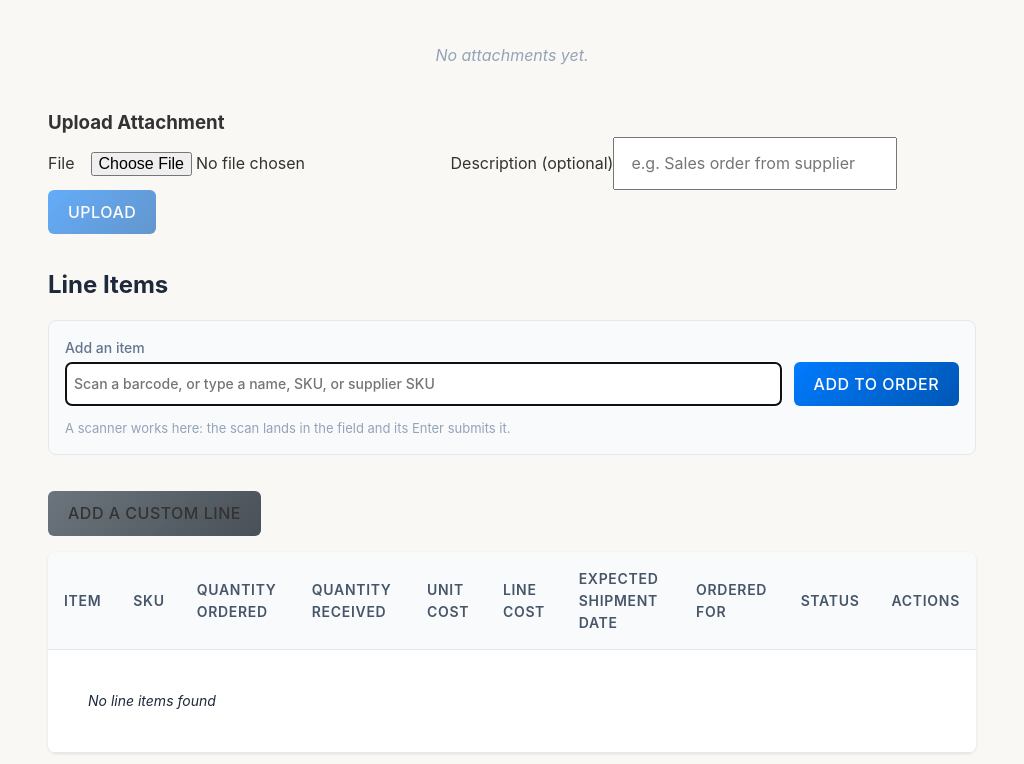
Scenario: PurchaseOrderPage — adding a line to a draft order › an item the supplier does not carry is refused in words the operator can act on
(page scrolled)
Type "BD-M5" into the field labelled "Add an item" at (423, 384), box left=65, top=362, right=782, bottom=406
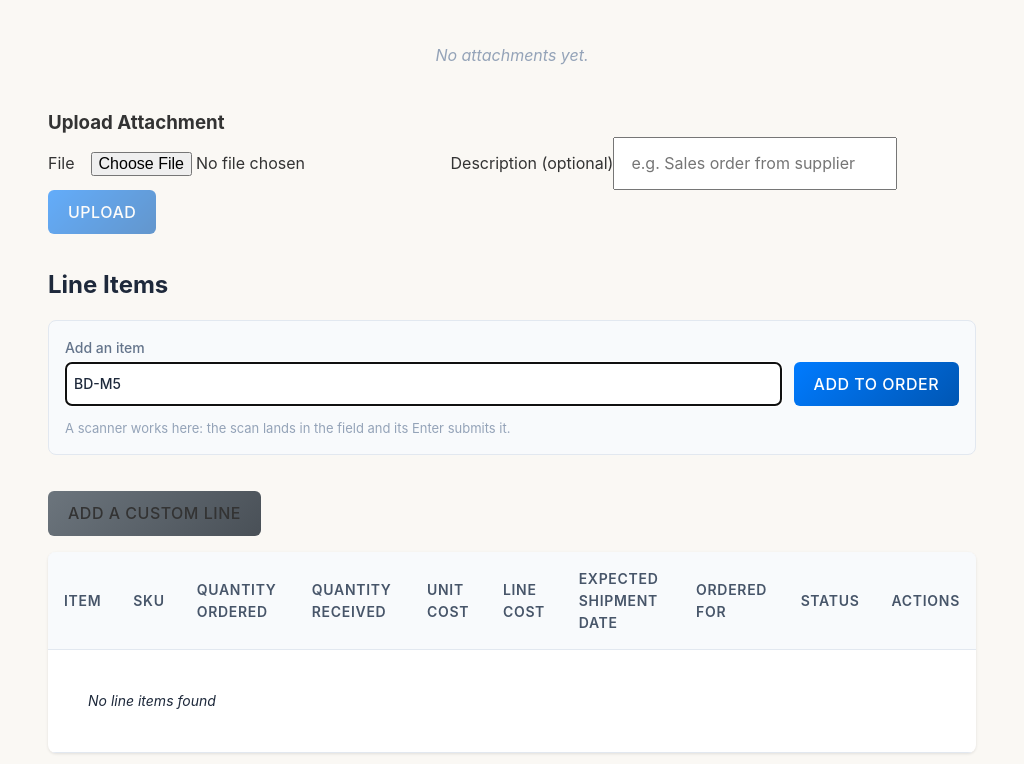
Submit the form labelled "Add an item", box left=48, top=320, right=976, bottom=455
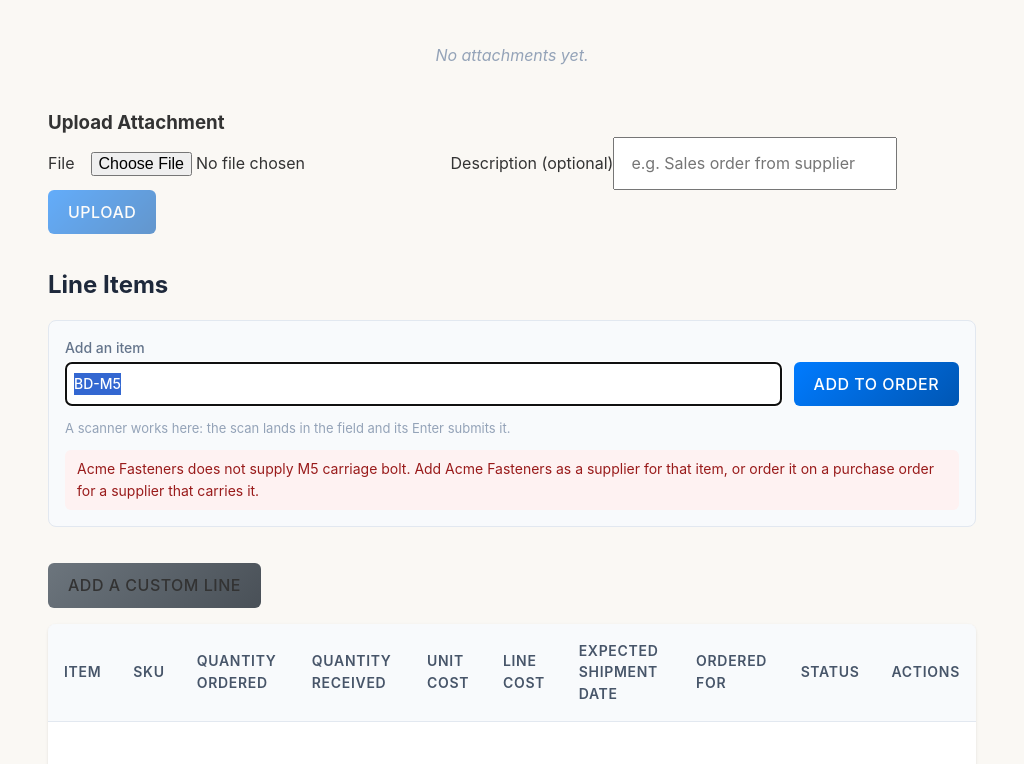
Expected: the message shows "Acme Fasteners does not supply M5 carriage bolt", left=77, top=460, right=934, bottom=499
